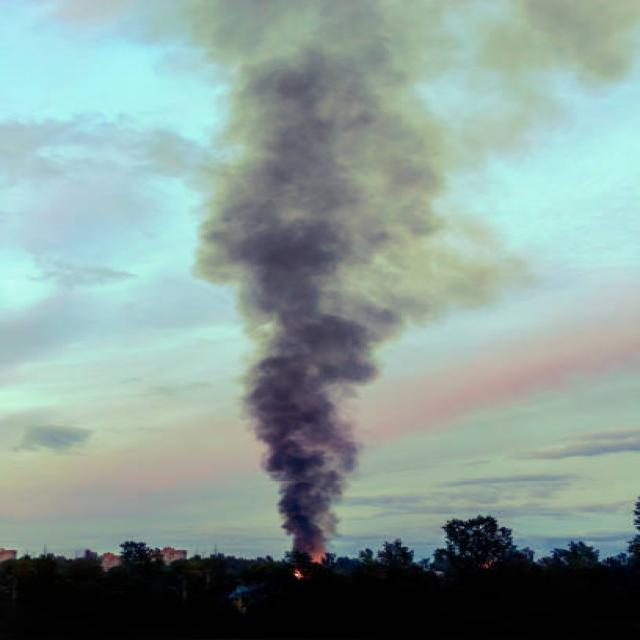Smoke: (216, 4, 442, 560)
